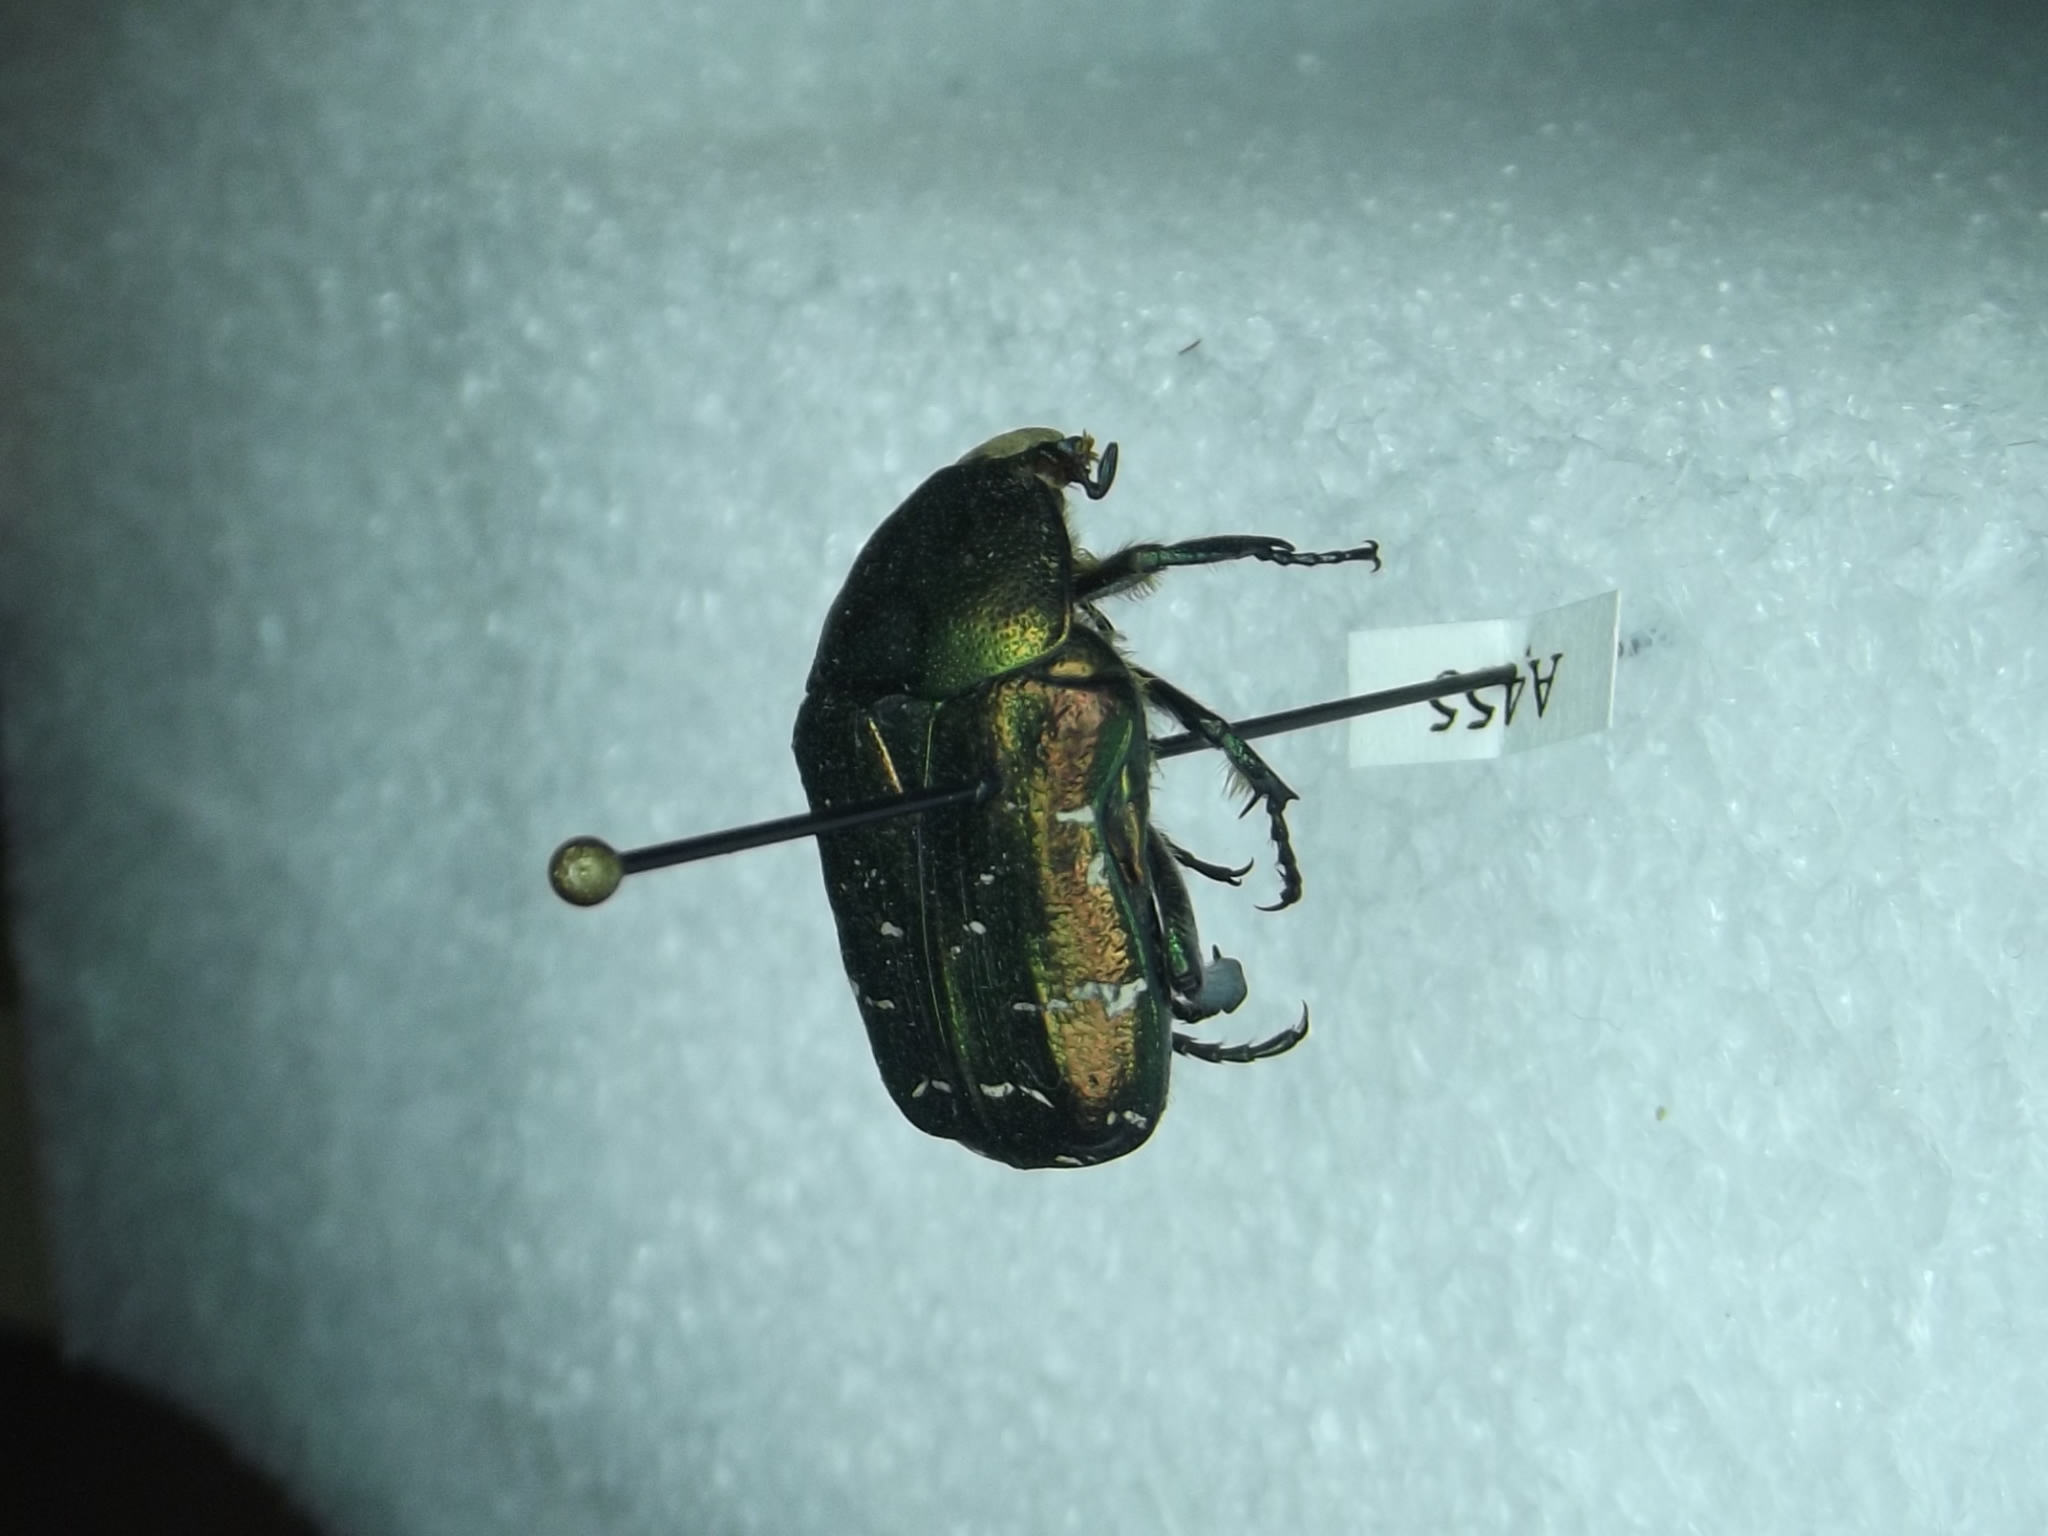Cetonia_kemali: (780, 413, 1405, 1196)
